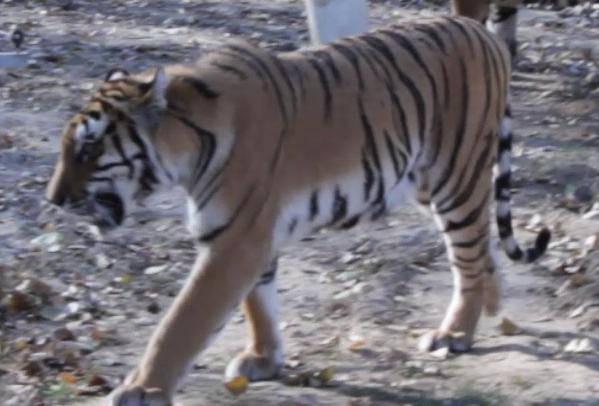tiger: (49, 0, 515, 405)
